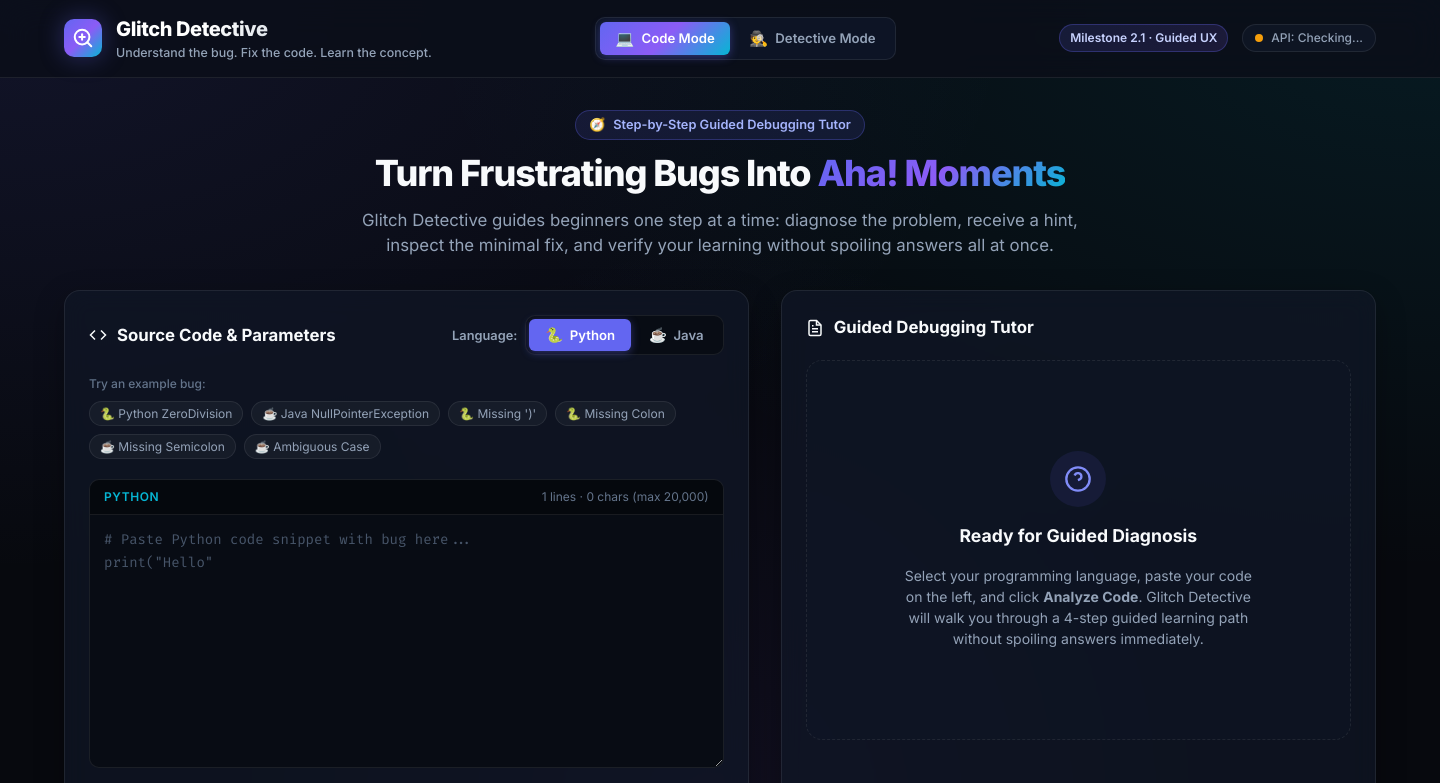
Scenario: Phase 3: Detective Mode UX & Challenge Engine Integration › wraps around to the first challenge when Next Case is pressed on the last challenge
Click the tab "🕵️ Detective Mode".
click(812, 38)  # box [734,22,891,55]
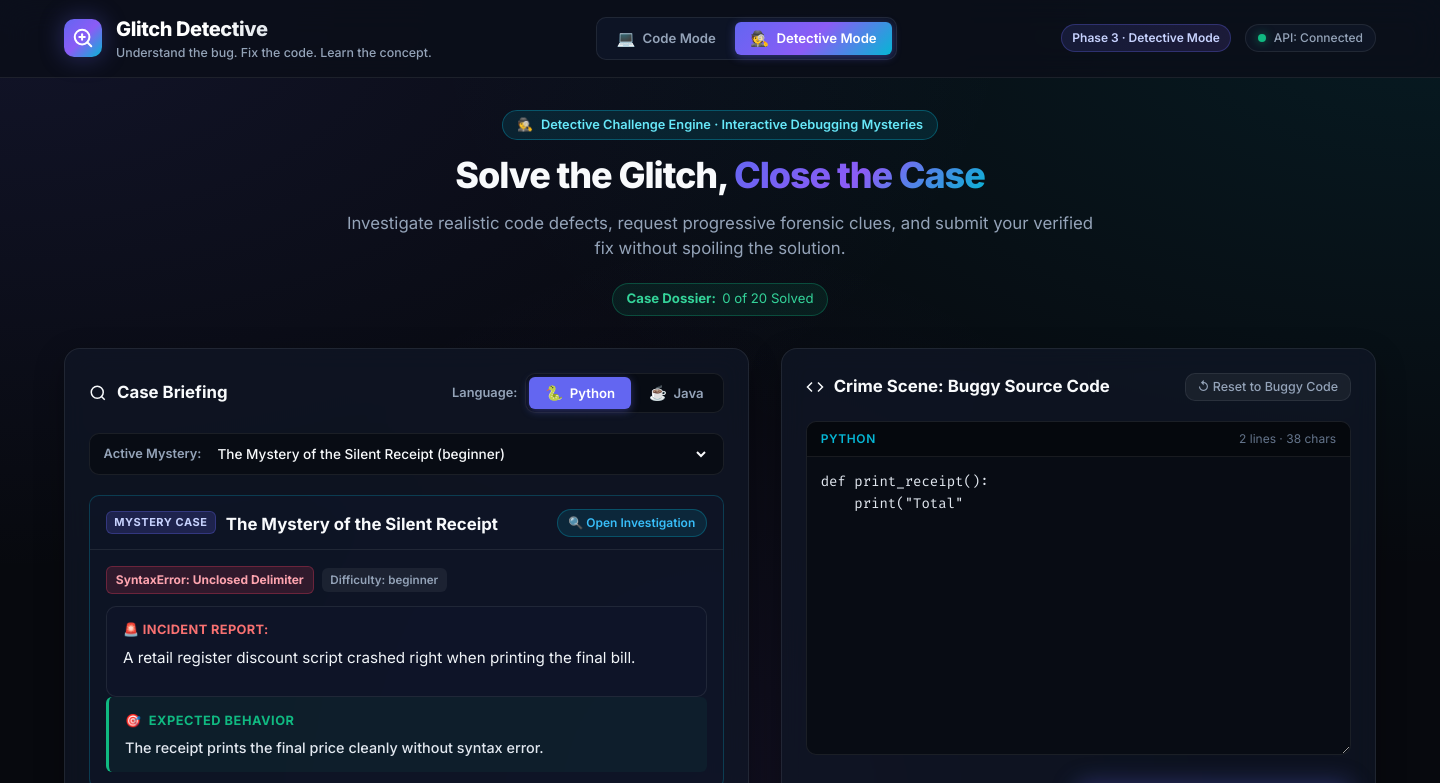
Result: the heading "The Mystery of the Silent Receipt" is shown at [226,512,498,537]
# Jump to the last Python challenge ('py-roster-indentation', index 2)
Select "The Mystery of the Misplaced Student (beginner)" in the dropdown named "Select Active Mystery Case" at (461, 454), box [213,445,709,463]
(page scrolled)
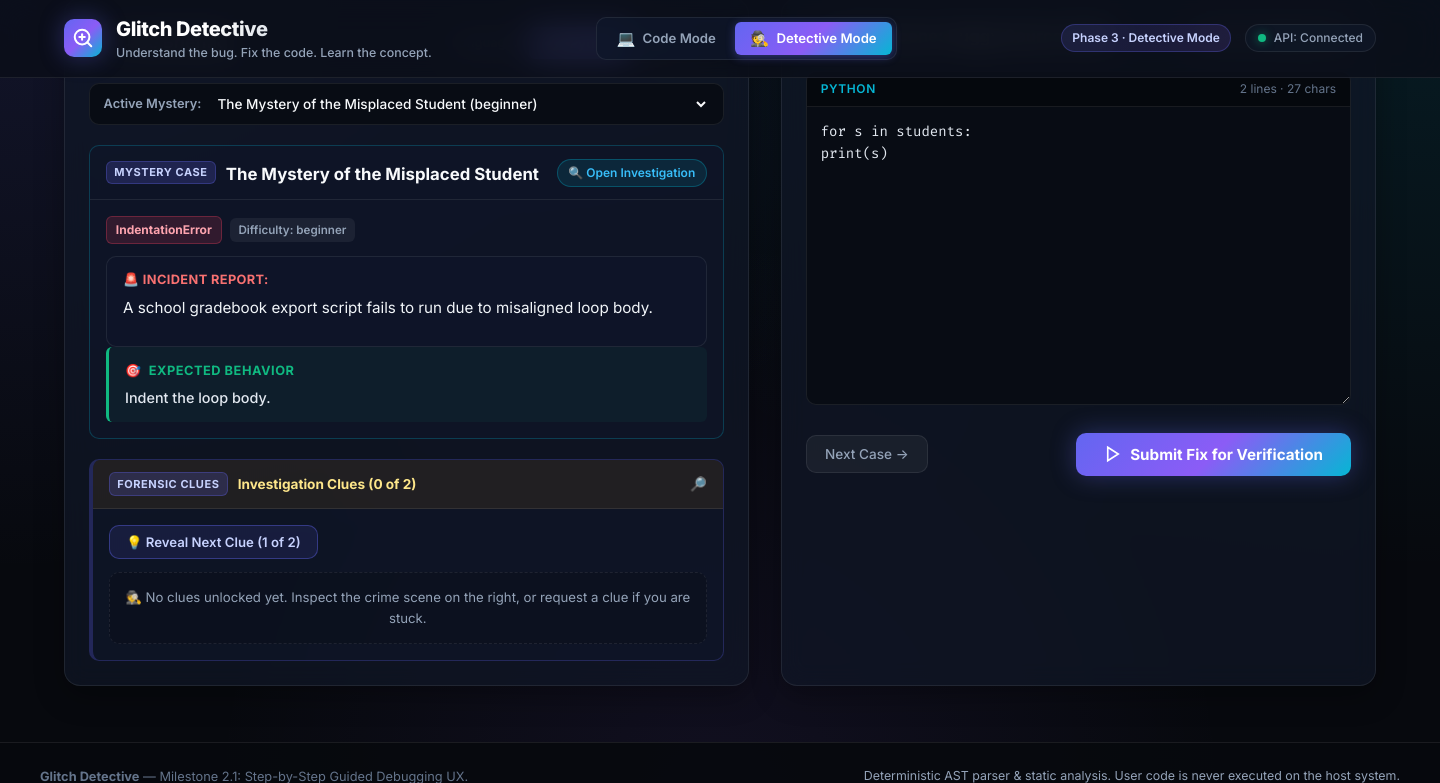
Result: the heading "The Mystery of the Misplaced Student" is shown at [226,162,539,187]
# Press Next Case - should wrap around to index 0
Click the button "Next Case →".
click(867, 454)  # box [806,435,928,474]
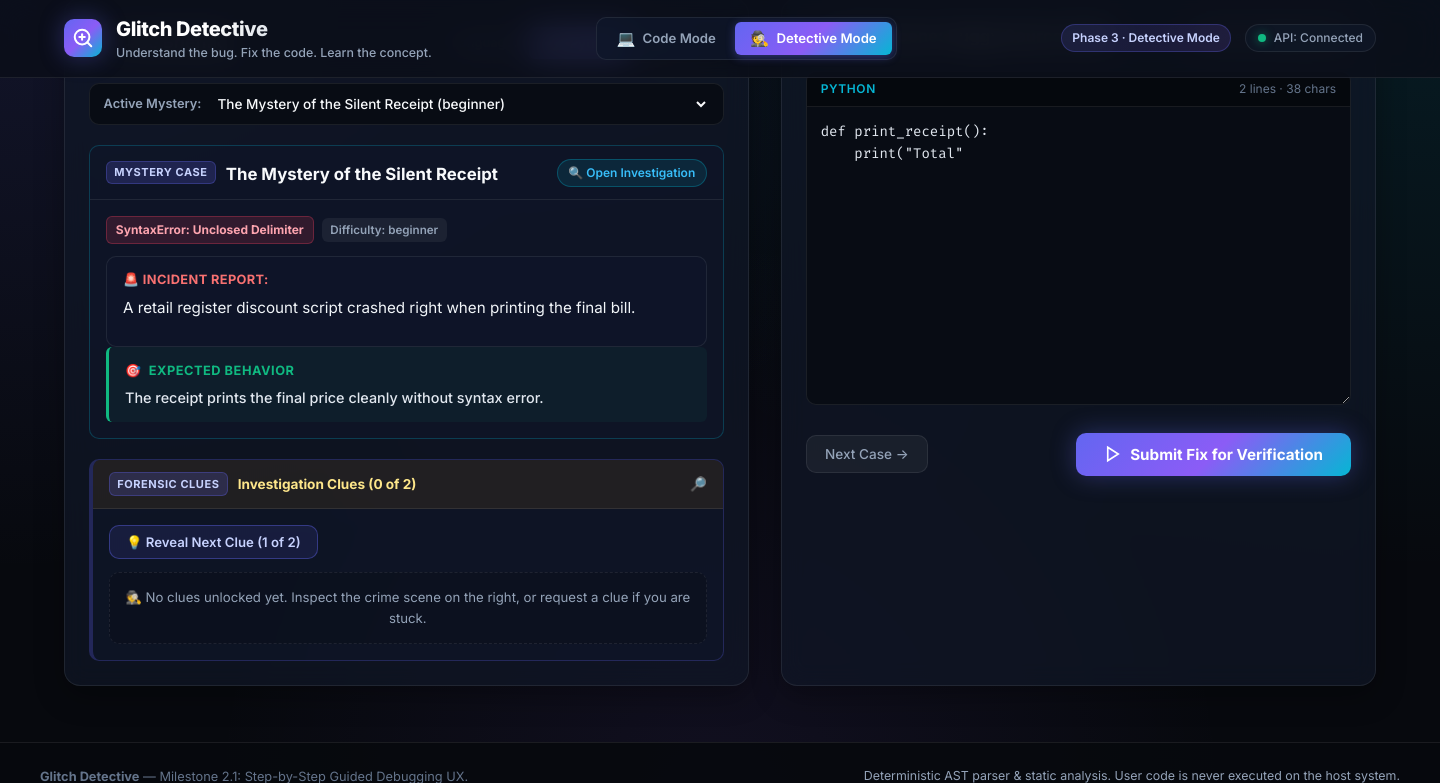
Result: the heading "The Mystery of the Silent Receipt" is shown at [226,162,498,187]
